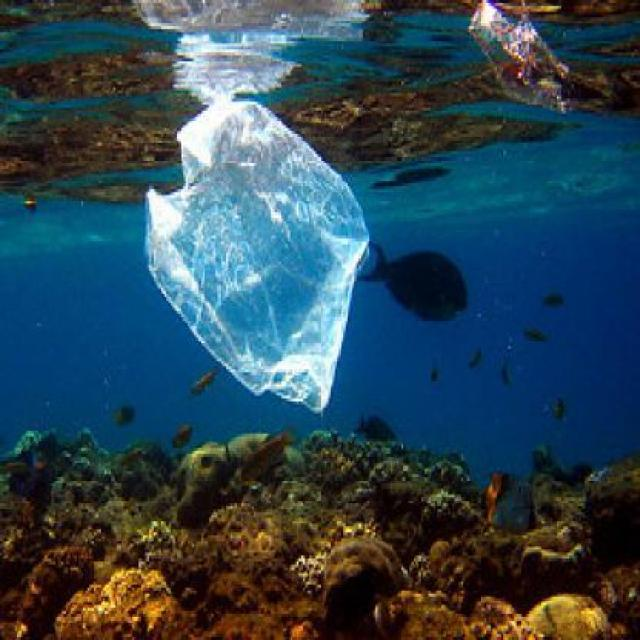plastic bag: (137, 81, 369, 412), (454, 0, 572, 117)
